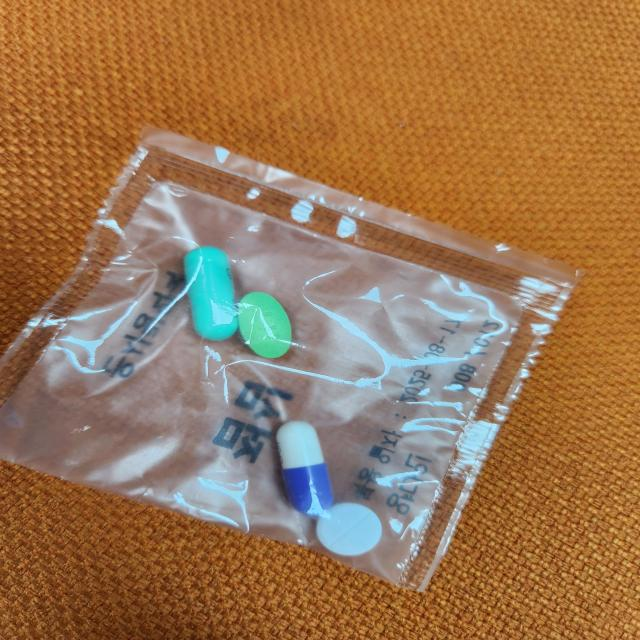러키펜정: (316, 503, 383, 559)
씨엠지세파클러캡슐: (277, 420, 336, 519)
에르도캡슐: (183, 248, 242, 348)
휴티렌정: (237, 291, 295, 362)
